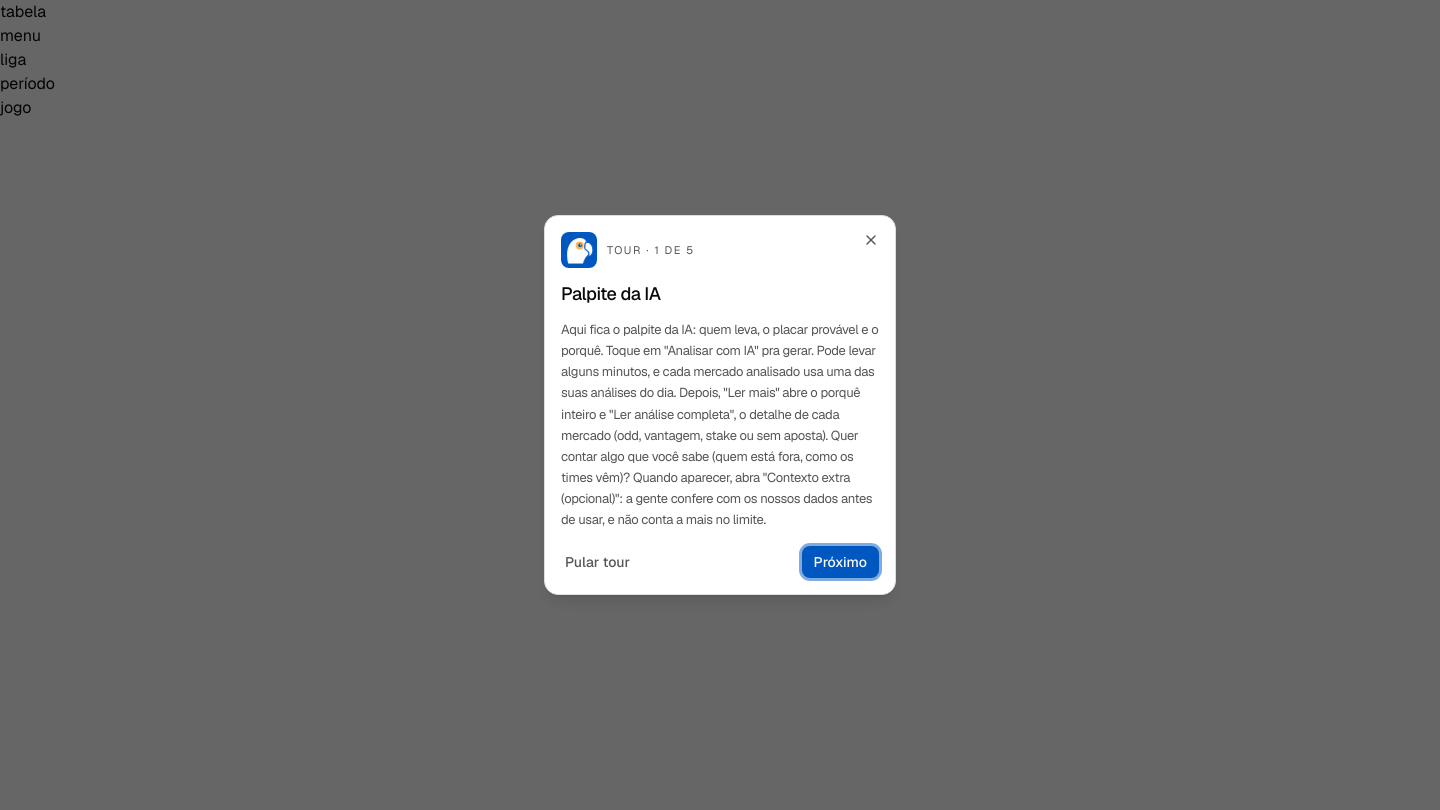
it: GuidedTour › passos com aba (#576) › abre a aba do passo antes do spotlight
Check: the dialog shows "Palpite da IA", box [561, 282, 661, 305]
Check: the dialog shows "1 de 5", box [544, 215, 896, 595]
Click the button "Próximo" at (840,562), box [802, 546, 879, 578]
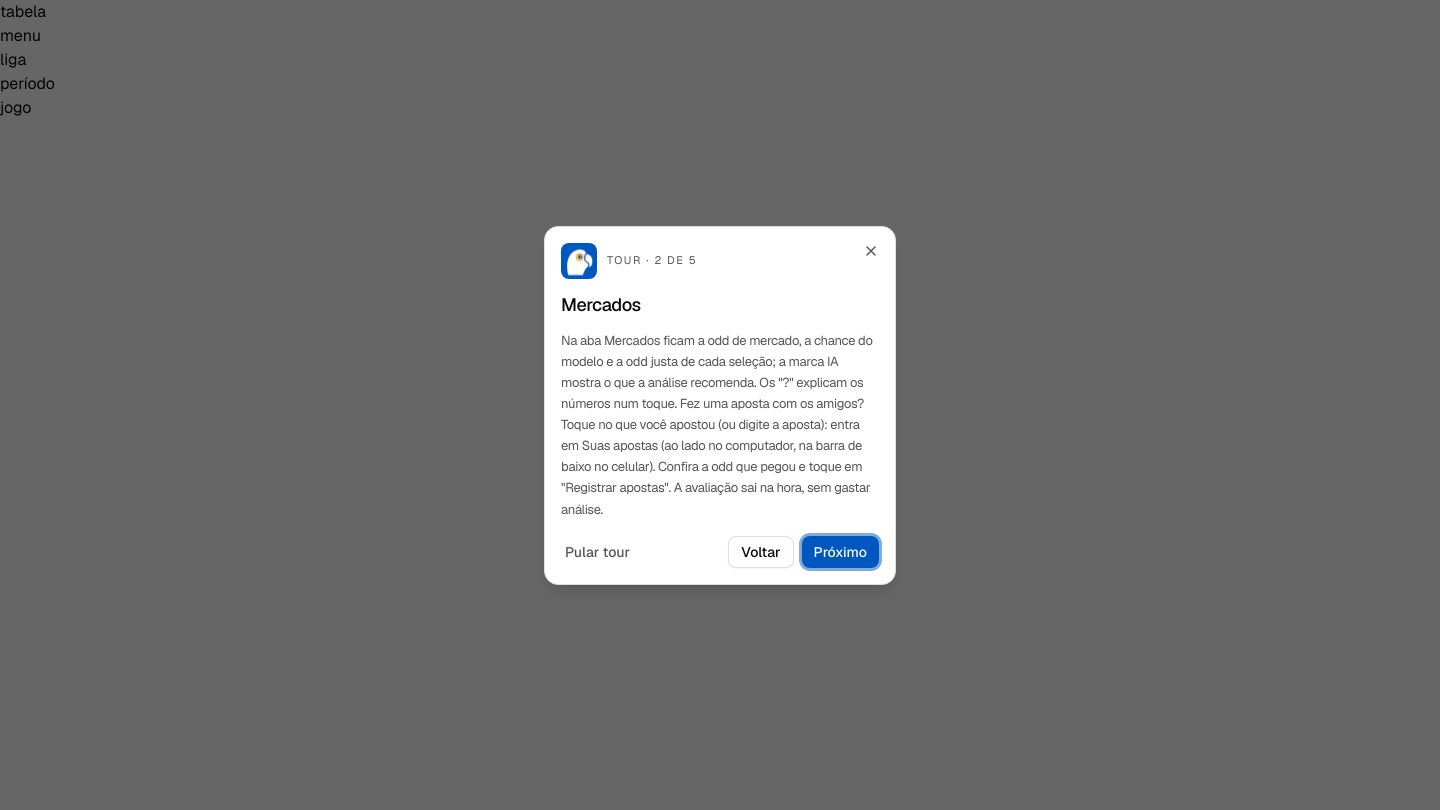
Click the button "Próximo" at (840,552), box [802, 536, 879, 568]
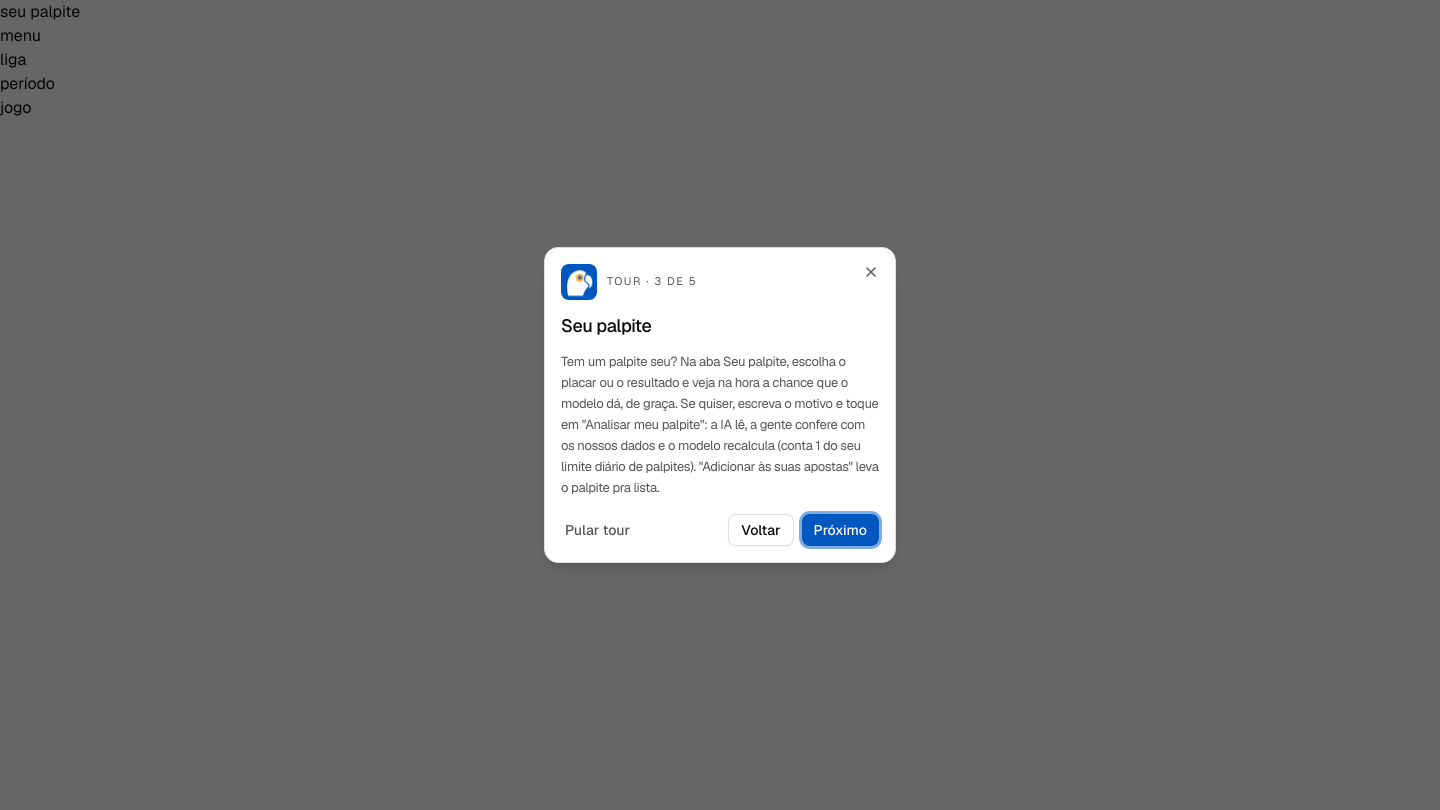
Check: the dialog shows "Seu palpite", box [561, 314, 651, 336]
